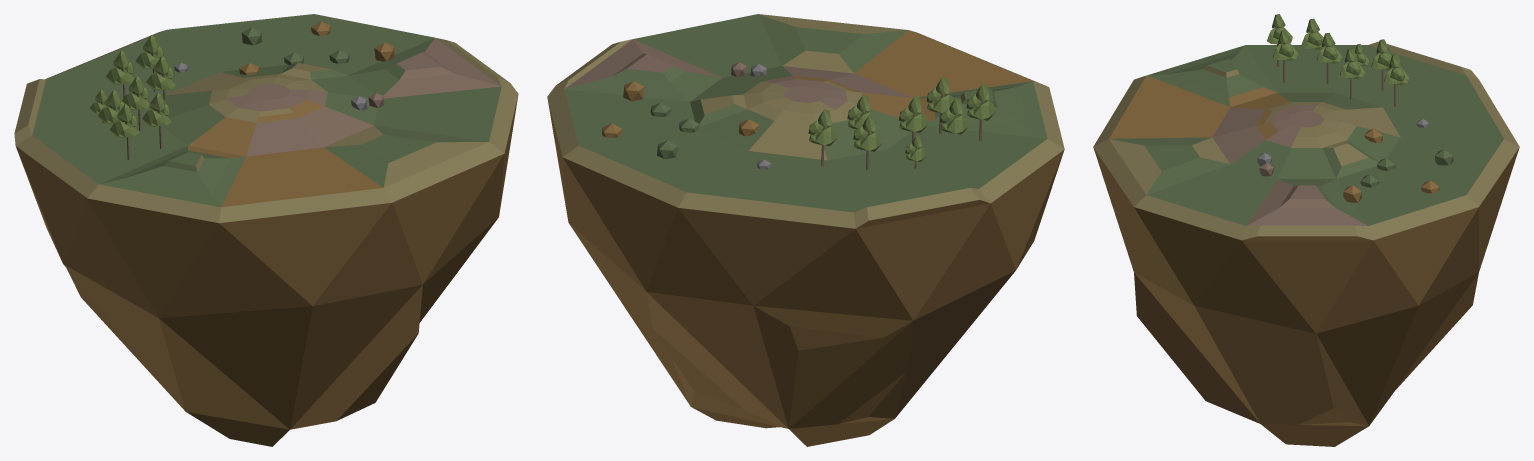
File: dryLand.glb
3 renders of one model, left to right at view 1: azimuth 30°, elevation 25°; view 2: azimuth 150°, elevation 25°; view 3: azimuth 270°, elevation 25°, orthographic. The views are drawn at different scales.
Parts seen in each view (by area): view 1: planet, Tree Type4 01 Model.009, Tree Type4 01 Model.010, Tree Type4 01 Model.002, Tree Type4 01 Model.008, Tree Type4 01 Model.006, Tree Type4 01 Model.007, Tree Type4 01 Model.004; view 2: planet, Tree Type4 01 Model.010, Tree Type4 01 Model.007, Tree Type4 01 Model.006, Tree Type4 01 Model.002, Tree Type4 01 Model.004, Tree Type4 01 Model.009, Tree Type4 01 Model.008; view 3: planet, Tree Type4 01 Model.007, Tree Type4 01 Model.009, Tree Type4 01 Model.002, Tree Type4 01 Model.008, Tree Type4 01 Model.006, Tree Type4 01 Model.004.
Part boxes in pixels (box(x1,y1,x2,y2)): planet: box(14, 14, 518, 446); Tree Type4 01 Model.009: box(142, 92, 171, 148); Tree Type4 01 Model.010: box(109, 103, 139, 160); Tree Type4 01 Model.002: box(122, 76, 149, 130); Tree Type4 01 Model.008: box(146, 56, 175, 103); Tree Type4 01 Model.006: box(106, 50, 134, 98); Tree Type4 01 Model.007: box(136, 35, 163, 91); Tree Type4 01 Model.004: box(98, 89, 124, 123); planet: box(547, 14, 1064, 446); Tree Type4 01 Model.010: box(966, 84, 995, 140); Tree Type4 01 Model.007: box(808, 109, 837, 166); Tree Type4 01 Model.006: box(853, 115, 882, 170); Tree Type4 01 Model.002: box(899, 96, 927, 142); Tree Type4 01 Model.004: box(940, 98, 968, 134); Tree Type4 01 Model.009: box(926, 77, 953, 134); Tree Type4 01 Model.008: box(847, 94, 876, 150); planet: box(1093, 41, 1519, 446); Tree Type4 01 Model.007: box(1384, 54, 1409, 106); Tree Type4 01 Model.009: box(1273, 30, 1298, 82); Tree Type4 01 Model.002: box(1316, 32, 1342, 83); Tree Type4 01 Model.008: box(1340, 48, 1365, 99); Tree Type4 01 Model.006: box(1371, 39, 1391, 90); Tree Type4 01 Model.004: box(1301, 18, 1324, 49).
Size of the model in its own units: 2.8 by 2.3 by 2.62.
